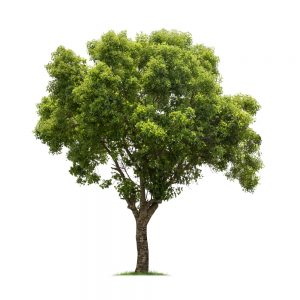tree: (31, 26, 265, 276)
